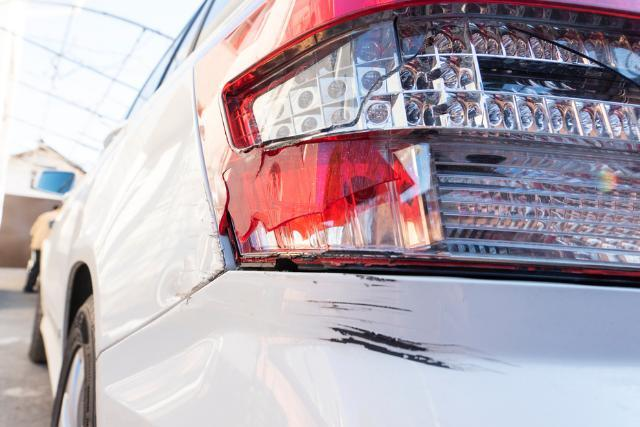Bumper: (76, 277, 640, 427)
Light: (215, 6, 640, 273)
